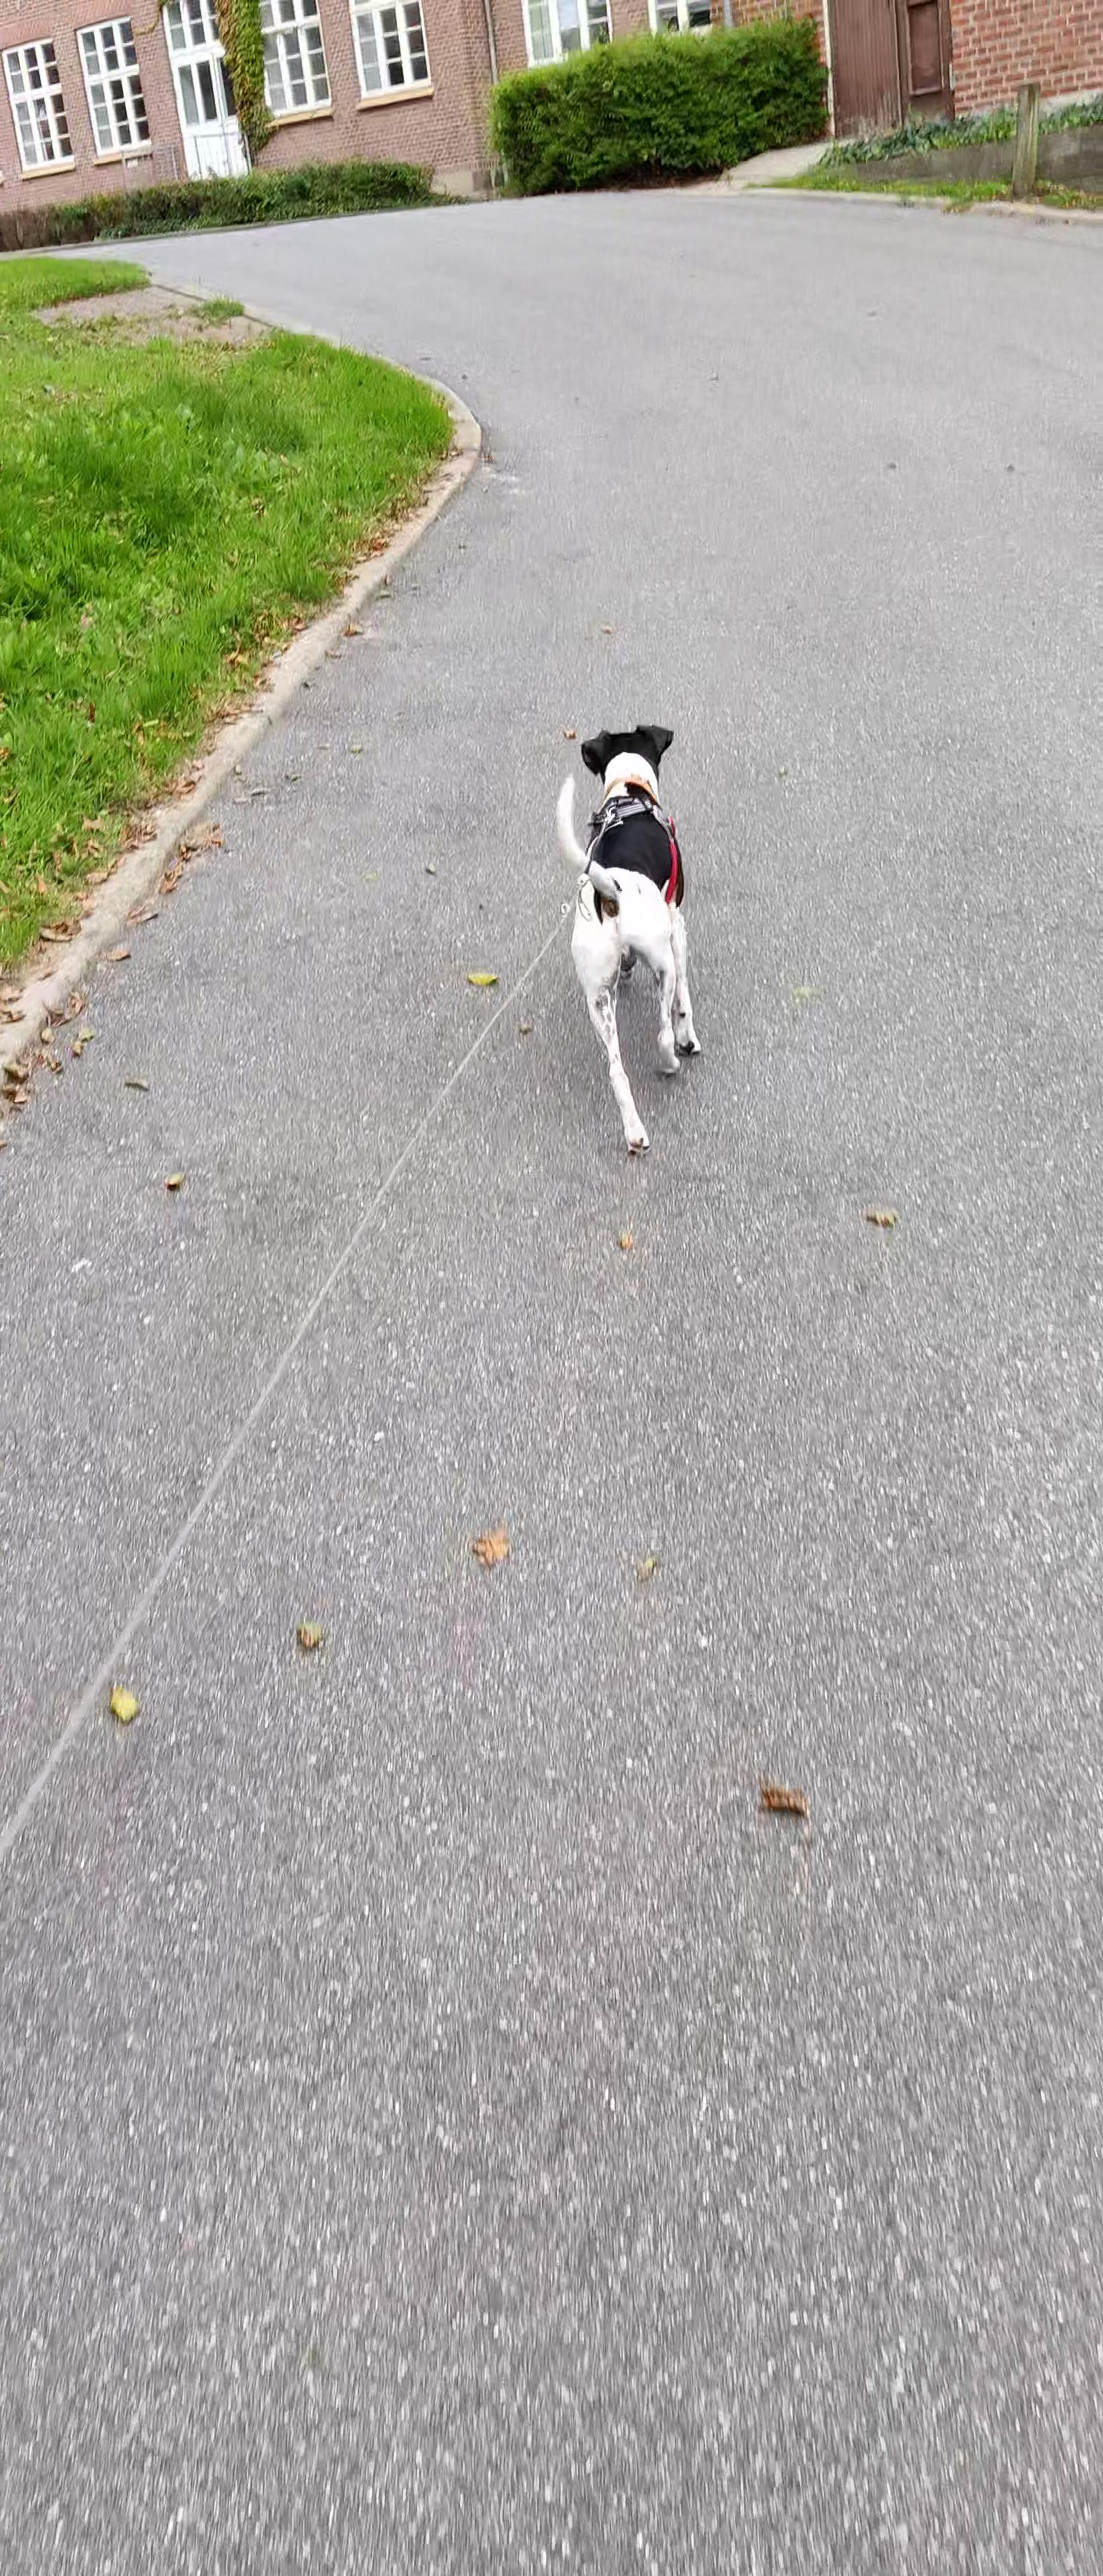Dog: (541, 710, 730, 1186)
